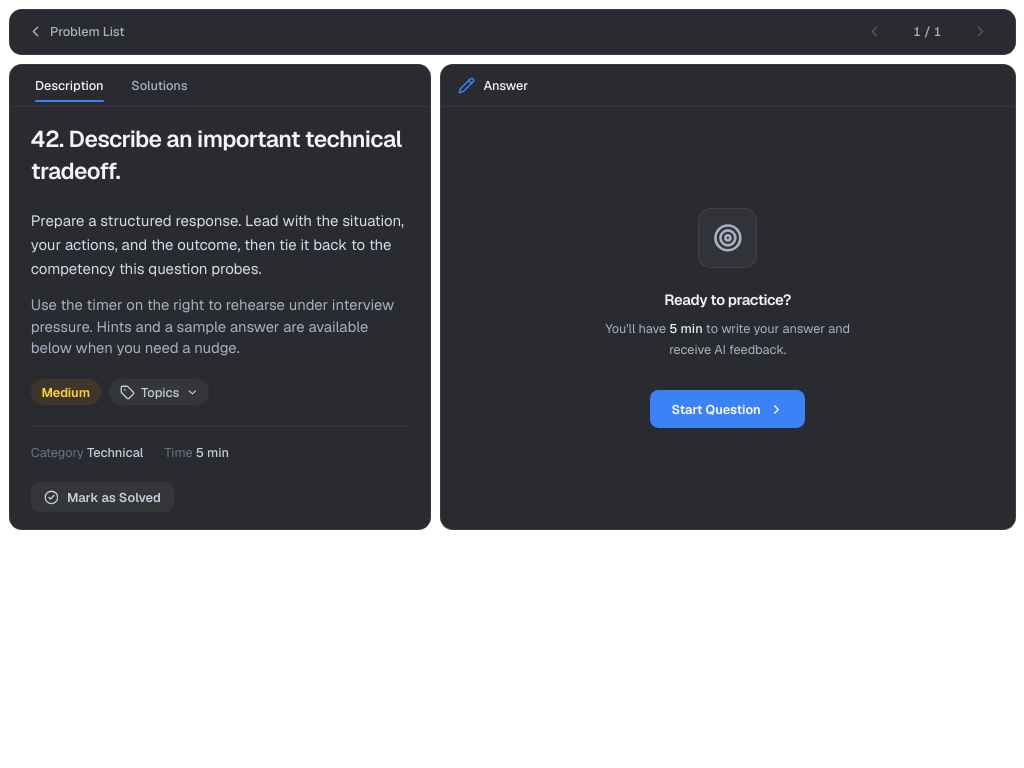
Scenario: QuestionDetailPageClient › keeps counting down while the answer changes
Step 1. Click the button "Start Question" → (728, 409), box [650,390,805,428]
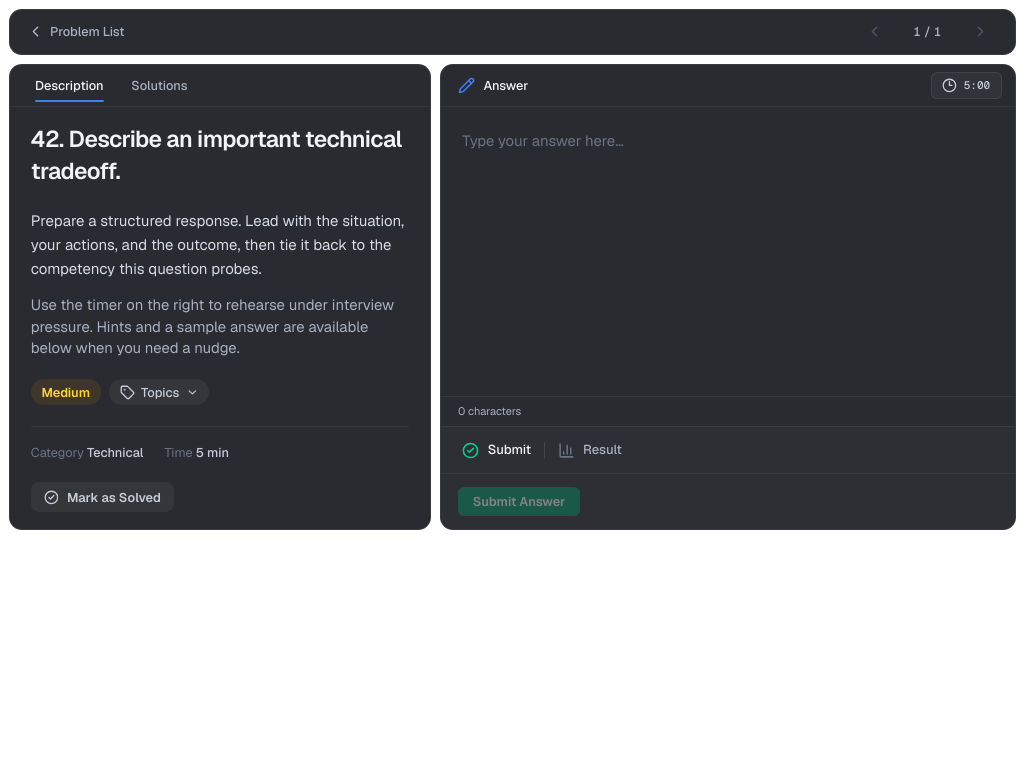
Step 2. Type "First sentence." into the text box with placeholder "Type your answer here…" → (728, 252), box [441,107,1014,396]
Wait 500 ms
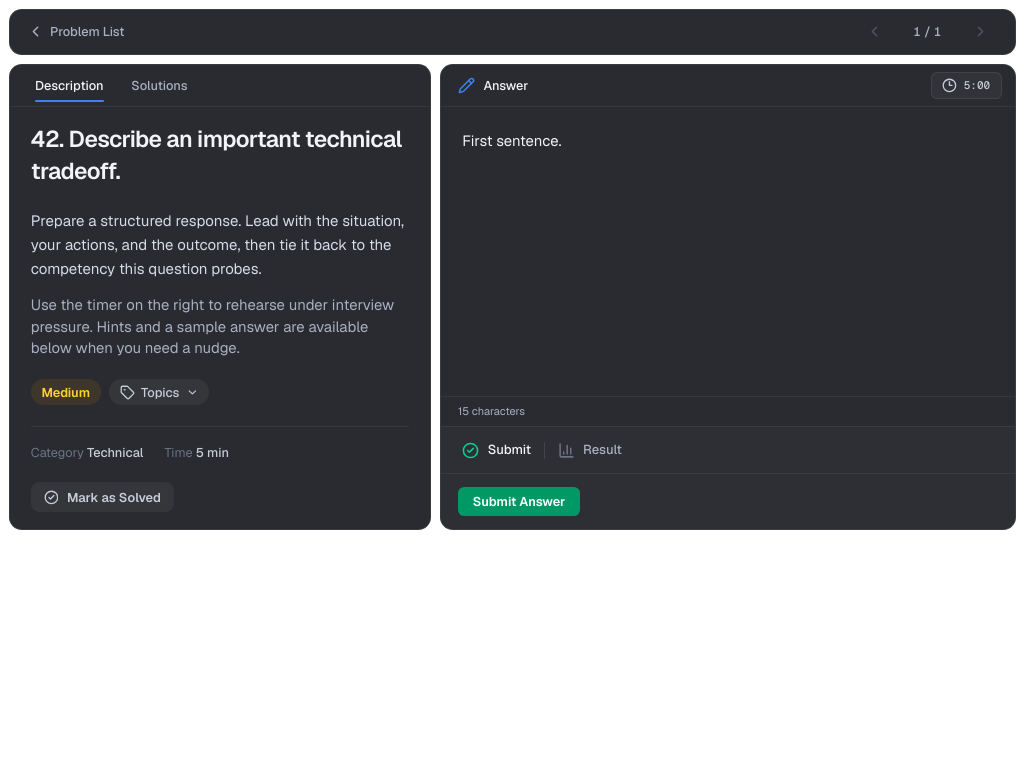
Step 3. Replace the text in the text box with placeholder "Type your answer here…" with "First sentence. Second sentence." → (728, 252), box [441,107,1014,396]
Wait 500 ms
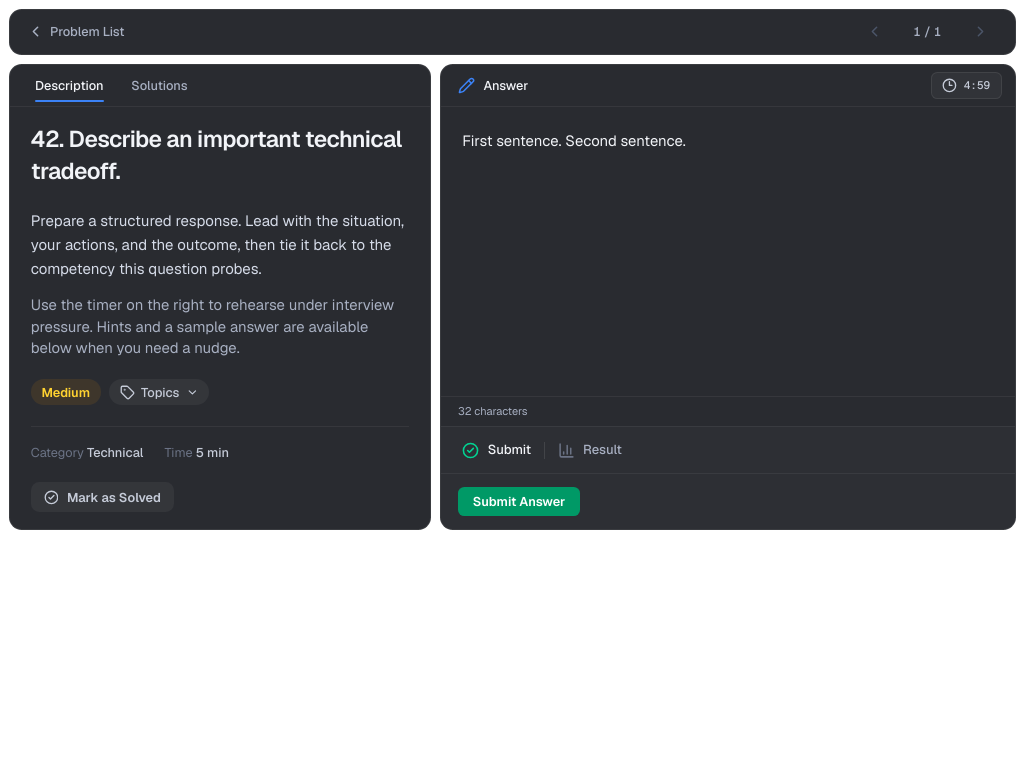
expect the text "4:59" is shown: met, box [931,72,1002,99]
